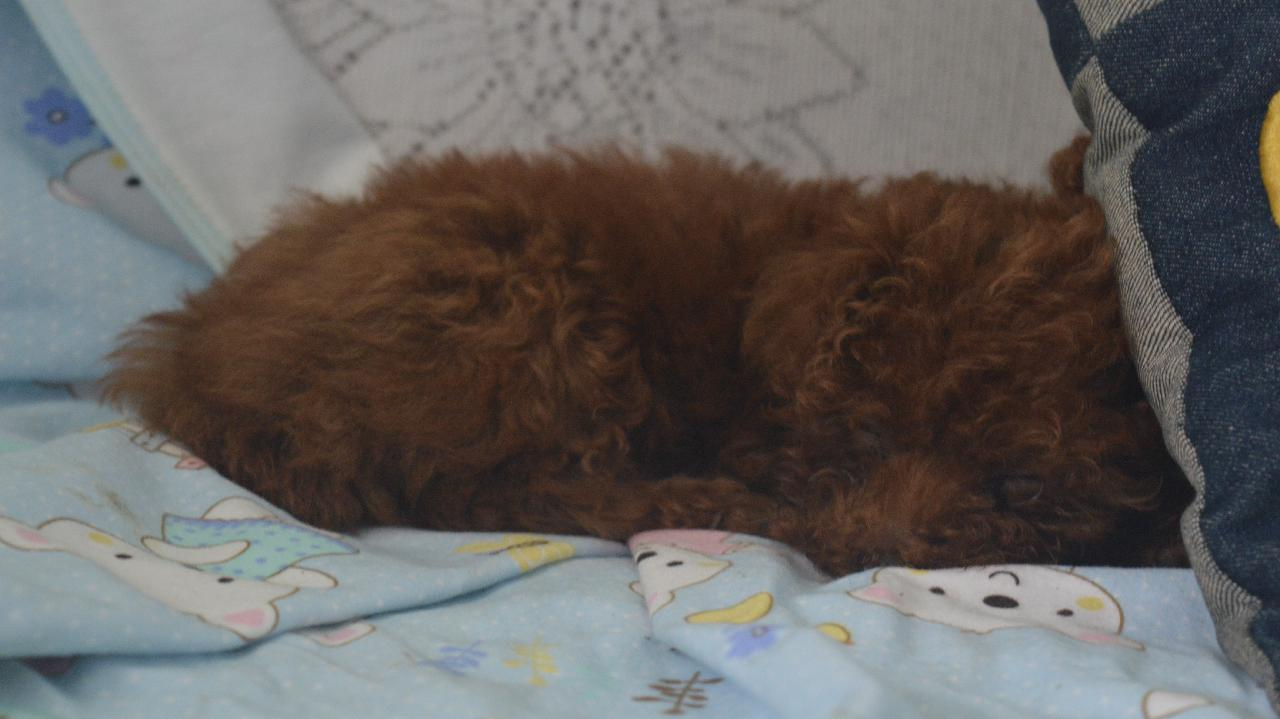coin: (169, 191, 1157, 591)
